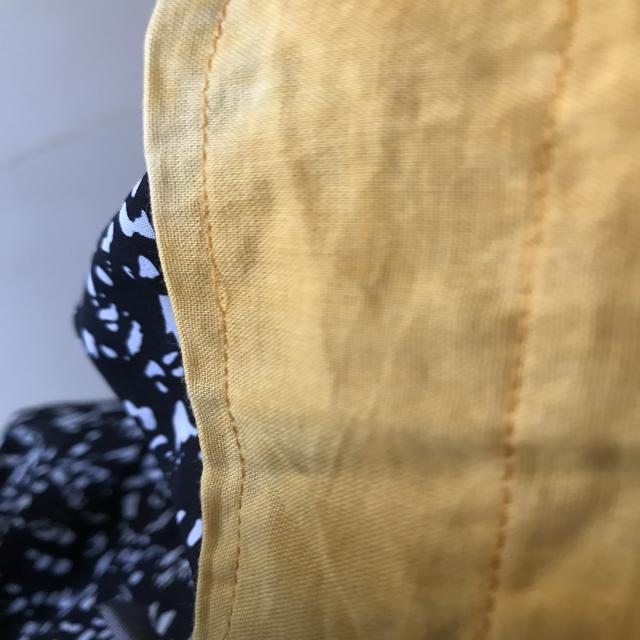skip: (202, 258, 246, 323)
